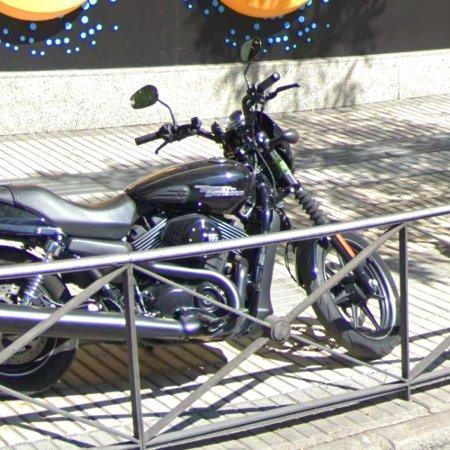motorcycles: (0, 73, 328, 265), (0, 246, 276, 341), (316, 253, 401, 360), (289, 233, 368, 293), (0, 338, 77, 393)
